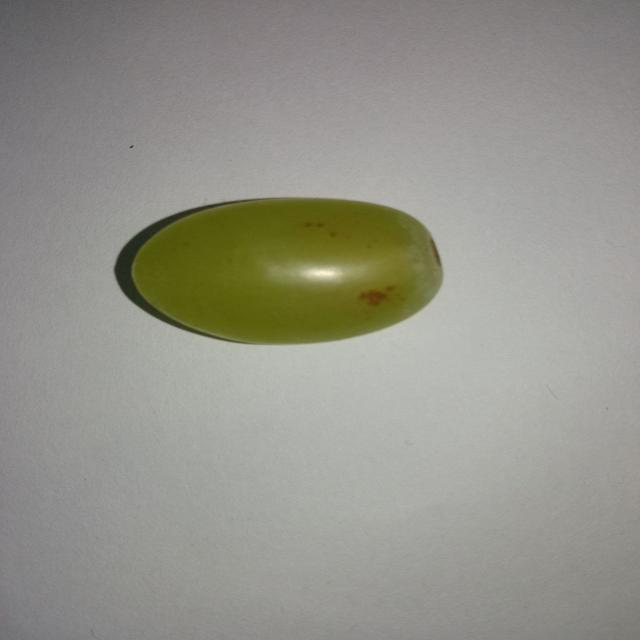fresh_grape: (123, 194, 445, 346)
